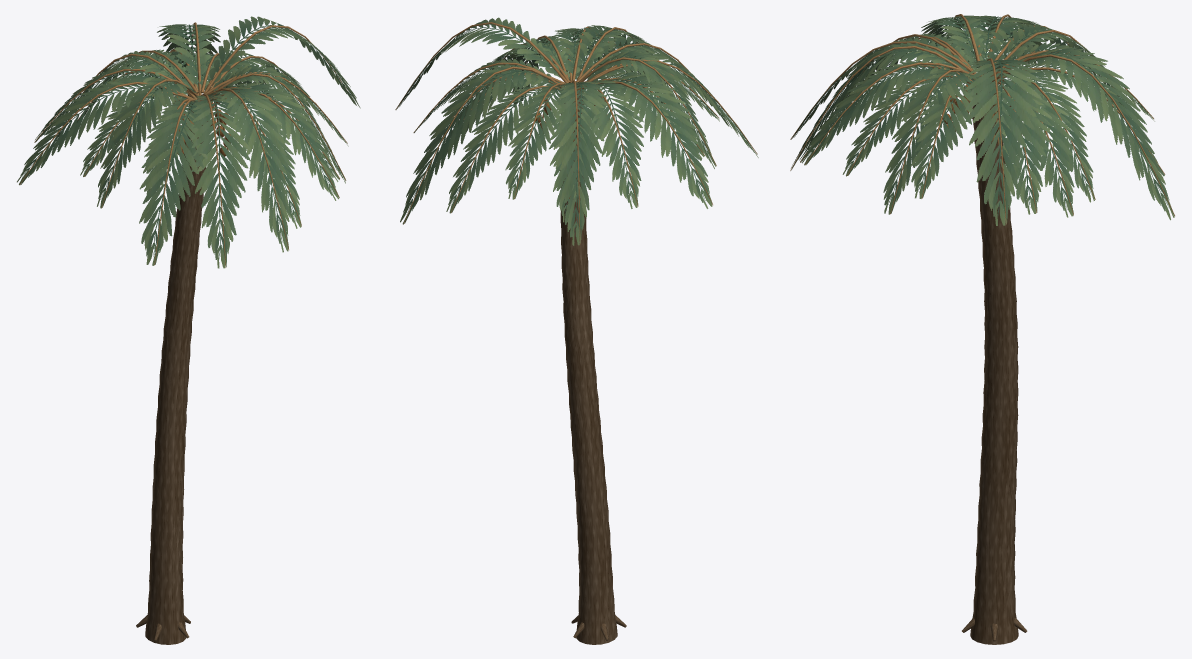
The model's file is nile_date_palm.glb.
3 views of the same model, side by side, from view 1: azimuth 30°, elevation 25°; view 2: azimuth 150°, elevation 25°; view 3: azimuth 270°, elevation 25° (orthographic). The views are drawn at different scales.
Visible parts, largest first — view 1: nile_date_palm; view 2: nile_date_palm; view 3: nile_date_palm.
Boxes of the visible parts, box(x1,y1,x2,y2) form: nile_date_palm: box(17, 16, 360, 644); nile_date_palm: box(395, 17, 758, 644); nile_date_palm: box(790, 14, 1174, 644).
Bounding box in the file's own units: 5.4 × 9.2 × 5.2.
Materials: 2 (2 with a texture image).
